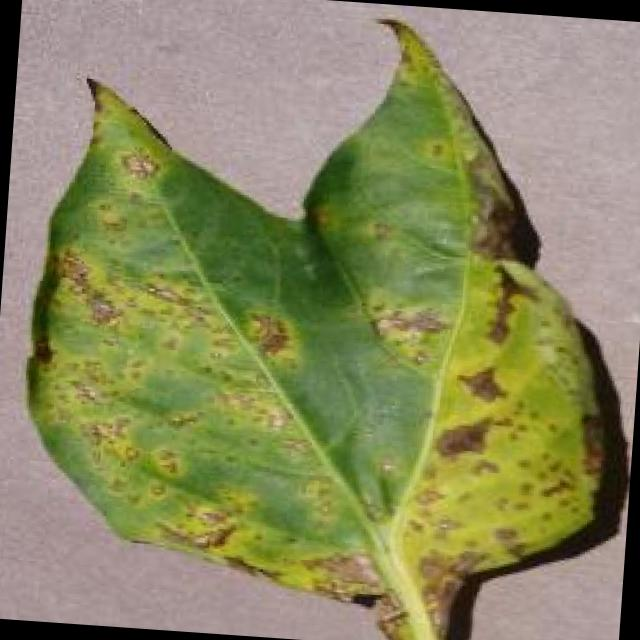Chilli_Bacterial_Spot: (4, 0, 640, 640), (400, 250, 620, 588), (151, 497, 242, 558), (366, 298, 452, 352), (428, 410, 494, 464), (452, 359, 510, 408), (240, 308, 293, 360), (114, 143, 162, 186), (88, 196, 130, 239), (81, 291, 124, 331), (146, 443, 186, 481)
